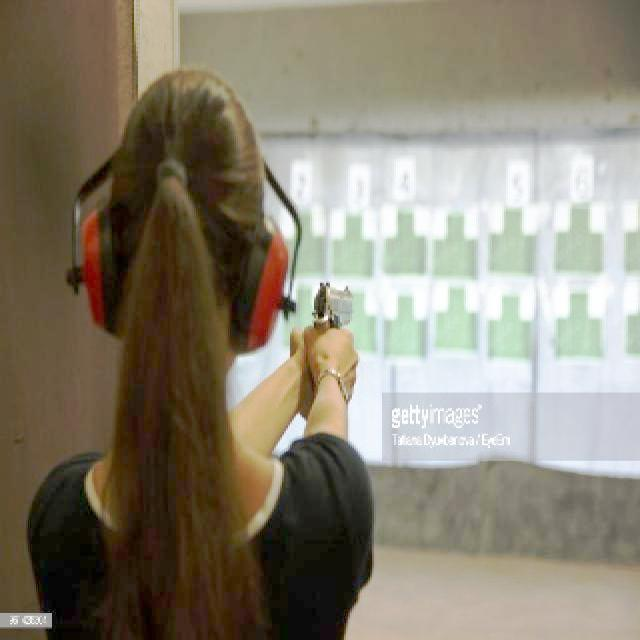Gun: (305, 273, 367, 336)
